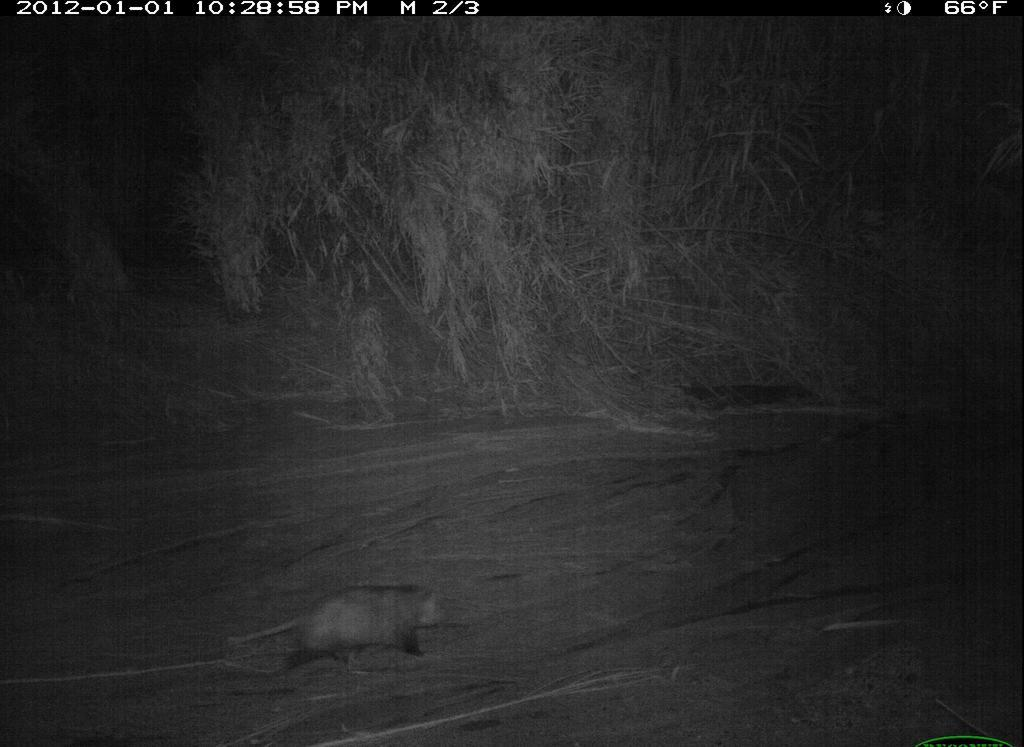opossum: (218, 580, 460, 685)
